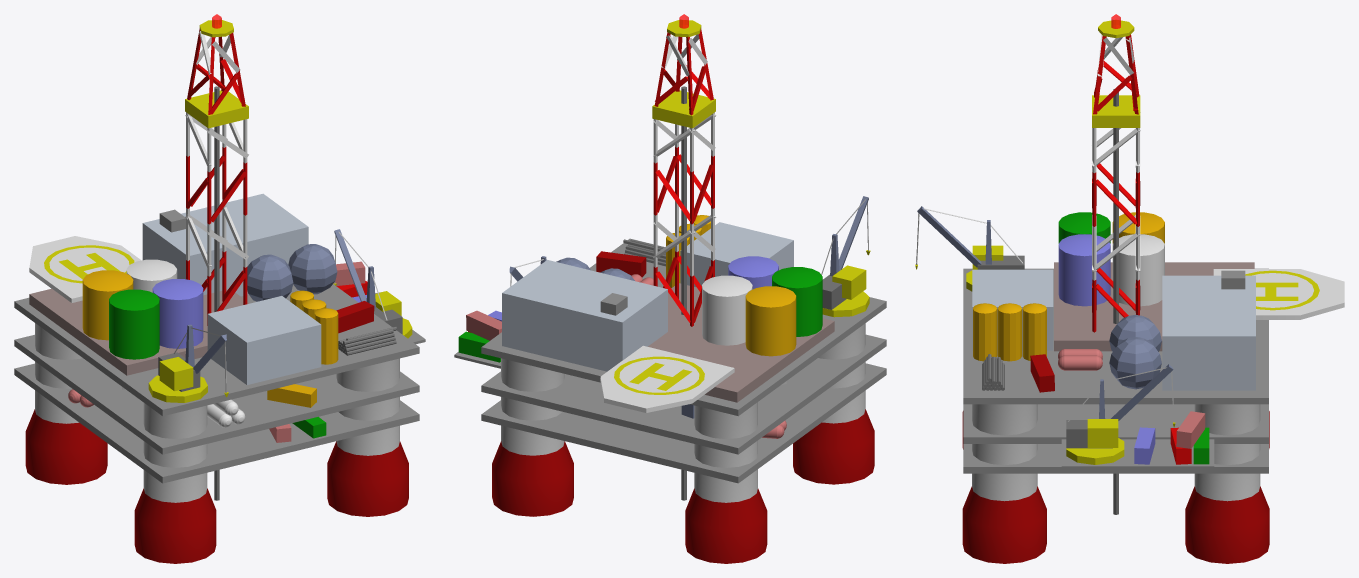
The model's file is OilRig.fbx.
3 renders of one model, left to right at view 1: azimuth 30°, elevation 25°; view 2: azimuth 150°, elevation 25°; view 3: azimuth 270°, elevation 25°, orthographic. The views are drawn at different scales.
Parts seen in each view (by area): view 1: polySurface244, polySurface247, polySurface246, polySurface243, polySurface245, polySurface250, polySurface307, polySurface248, polySurface251, polySurface310, polySurface252, polySurface312 (+19 smaller); view 2: polySurface250, polySurface244, polySurface248, polySurface243, polySurface249, polySurface247, polySurface251, polySurface245, polySurface252, polySurface307, polySurface311, polySurface313 (+16 smaller); view 3: polySurface250, polySurface246, polySurface249, polySurface245, polySurface244, polySurface251, polySurface252, polySurface307, polySurface243, polySurface312, polySurface313, polySurface309 (+23 smaller).
Boxes of the visible parts, <box> form: polySurface244: <box>14,334,419,454</box>; polySurface247: <box>134,403,216,563</box>; polySurface246: <box>327,358,408,516</box>; polySurface243: <box>14,363,419,483</box>; polySurface245: <box>14,284,419,416</box>; polySurface250: <box>142,193,308,296</box>; polySurface307: <box>207,296,321,384</box>; polySurface248: <box>25,323,107,484</box>; polySurface251: <box>29,288,249,375</box>; polySurface310: <box>109,289,159,359</box>; polySurface252: <box>29,236,141,302</box>; polySurface312: <box>152,279,203,348</box>; polySurface250: <box>502,260,667,371</box>; polySurface244: <box>481,334,886,454</box>; polySurface248: <box>685,402,767,563</box>; polySurface243: <box>481,363,886,483</box>; polySurface249: <box>492,358,573,516</box>; polySurface247: <box>793,323,874,484</box>; polySurface251: <box>648,283,834,402</box>; polySurface245: <box>481,238,886,416</box>; polySurface252: <box>600,345,734,412</box>; polySurface307: <box>680,222,793,287</box>; polySurface311: <box>745,286,796,356</box>; polySurface313: <box>702,275,752,345</box>; polySurface250: <box>1162,275,1255,390</box>; polySurface246: <box>962,404,1046,563</box>; polySurface249: <box>1185,404,1269,563</box>; polySurface245: <box>963,268,1268,404</box>; polySurface244: <box>963,404,1268,443</box>; polySurface251: <box>1054,262,1254,351</box>; polySurface252: <box>1213,269,1344,319</box>; polySurface307: <box>972,269,1053,350</box>; polySurface243: <box>963,444,1268,473</box>; polySurface312: <box>1058,234,1110,306</box>; polySurface313: <box>1112,234,1164,306</box>; polySurface309: <box>1109,337,1161,389</box>.
Bounding box in the file's own units: 17.07 × 25.27 × 19.67.
